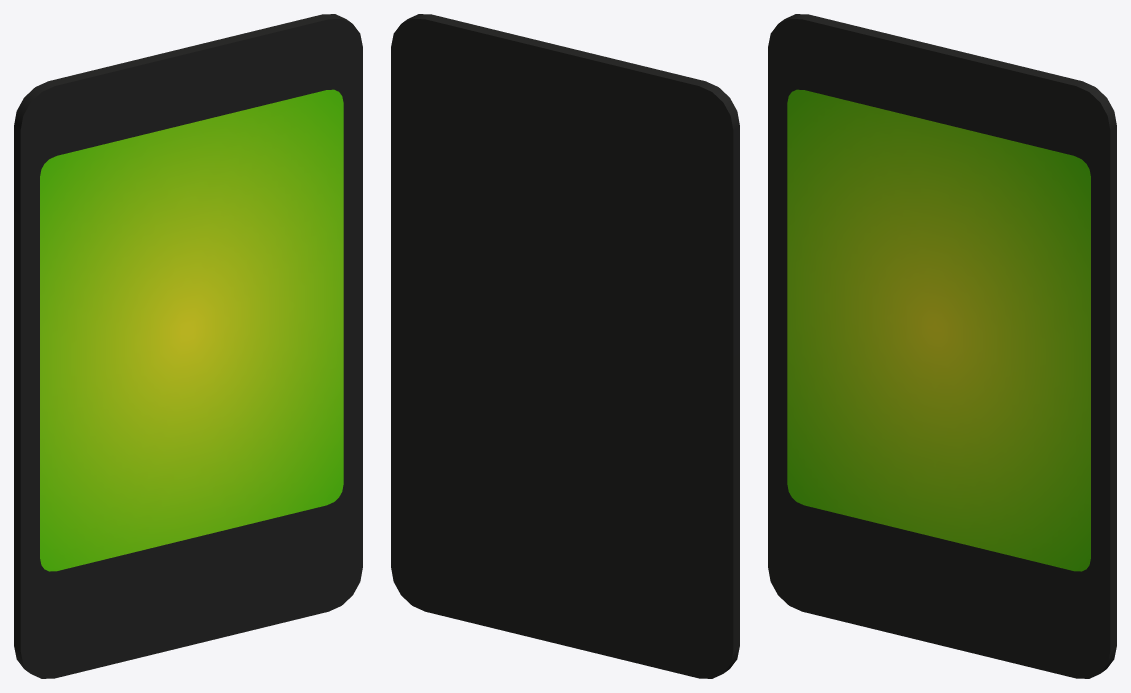
File: card 1.fbx
3 renders of one model, left to right at view 1: azimuth 30°, elevation 25°; view 2: azimuth 150°, elevation 25°; view 3: azimuth 330°, elevation 25°, orthographic.
Visible parts, largest first — view 1: card3; view 2: card3; view 3: card3.
Part boxes in pixels (bbox=[...]): card3: bbox=[14, 14, 362, 678]; card3: bbox=[391, 14, 739, 678]; card3: bbox=[768, 14, 1116, 678].
Bounding box in the file's own units: 22.27 × 36.83 × 0.7458.
